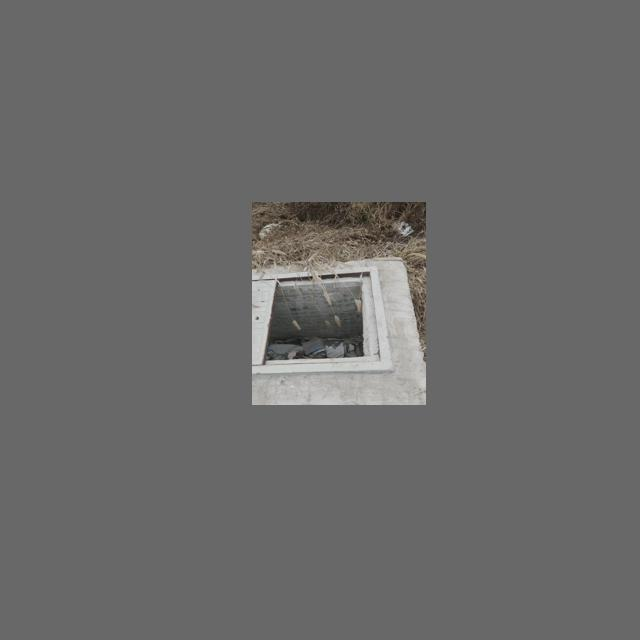lose: (252, 266, 394, 373)
